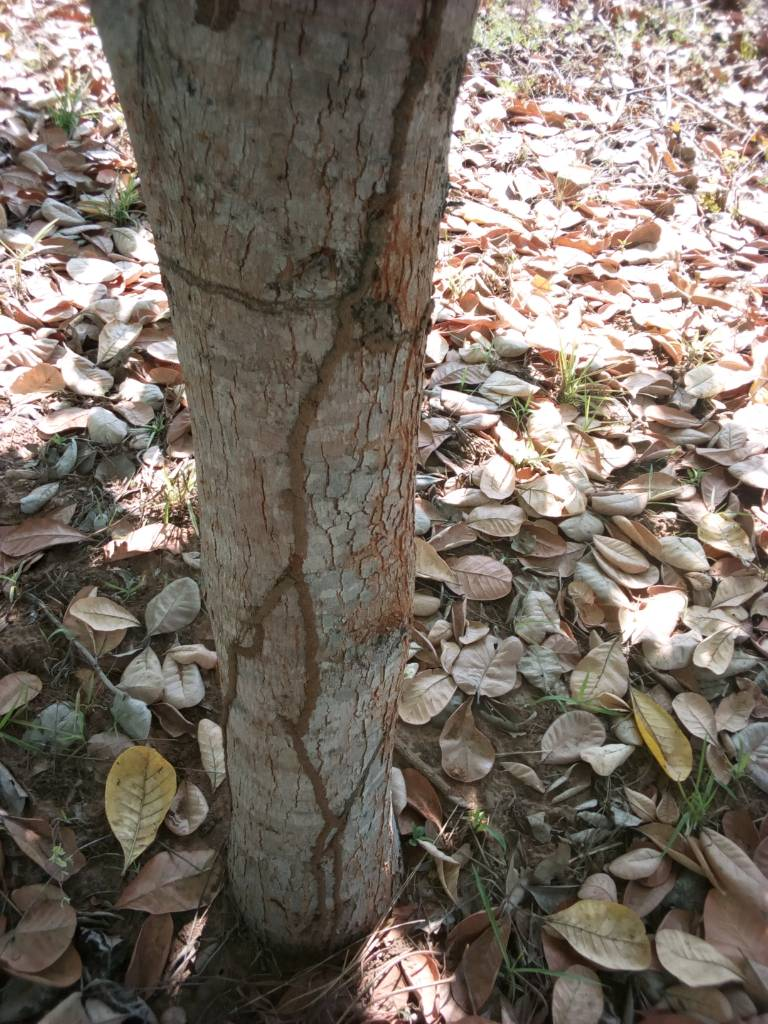Termites: (286, 319, 350, 955), (336, 11, 443, 321), (222, 602, 272, 696)
